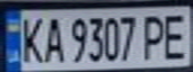0: (103, 14, 121, 63)
3: (84, 14, 106, 63)
7: (118, 12, 142, 61)
9: (66, 14, 87, 63)
A: (39, 13, 66, 64)
E: (157, 10, 193, 61)
K: (15, 12, 45, 64)
P: (139, 11, 172, 61)
